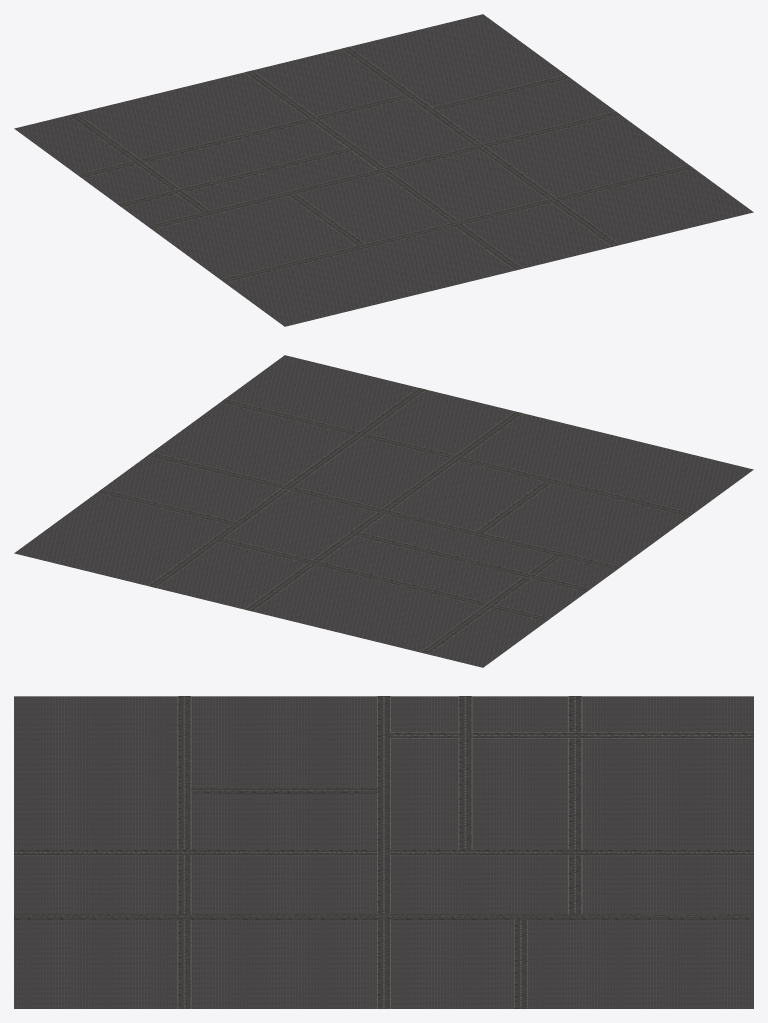
File: CityGround_01.fbx
3 renders of one model, top to bottom at view 1: azimuth 30°, elevation 25°; view 2: azimuth 150°, elevation 25°; view 3: azimuth 270°, elevation 25°, orthographic. The views are drawn at different scales.
Visible parts, largest first — view 1: ground; view 2: ground; view 3: ground.
Part boxes in pixels (bbox=[...]): ground: bbox=[14, 14, 753, 326]; ground: bbox=[14, 355, 753, 667]; ground: bbox=[14, 696, 753, 1008].
Size of the model in its own units: 1600 by 0.2054 by 1600.
2 materials, 2 textured.
